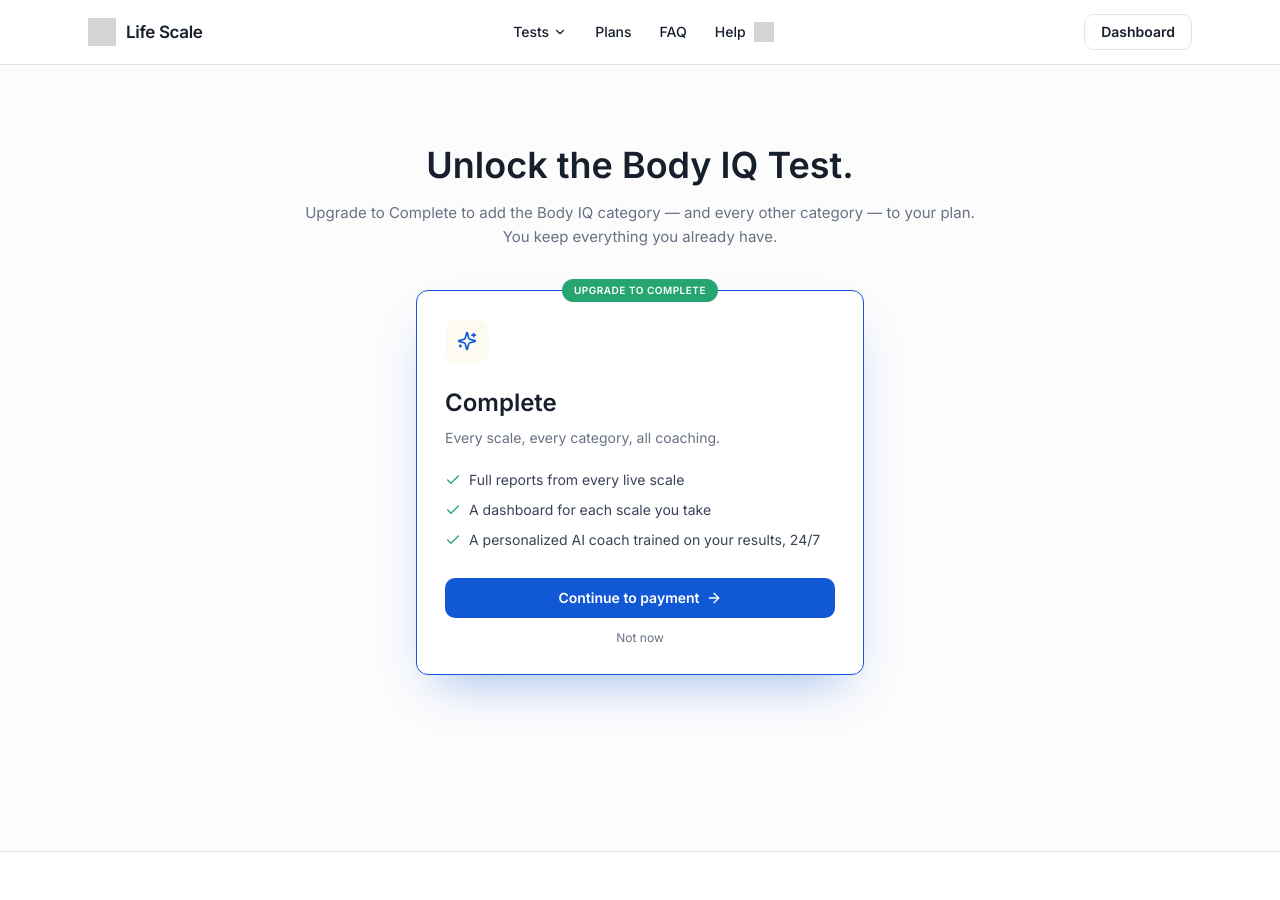
it: purchase paths › sends an existing subscriber upgrade to trial selection instead of granting access
The image size is (1280, 900).
Step 1. Click the button "Continue to payment" → click(640, 598), box [445, 578, 835, 618]
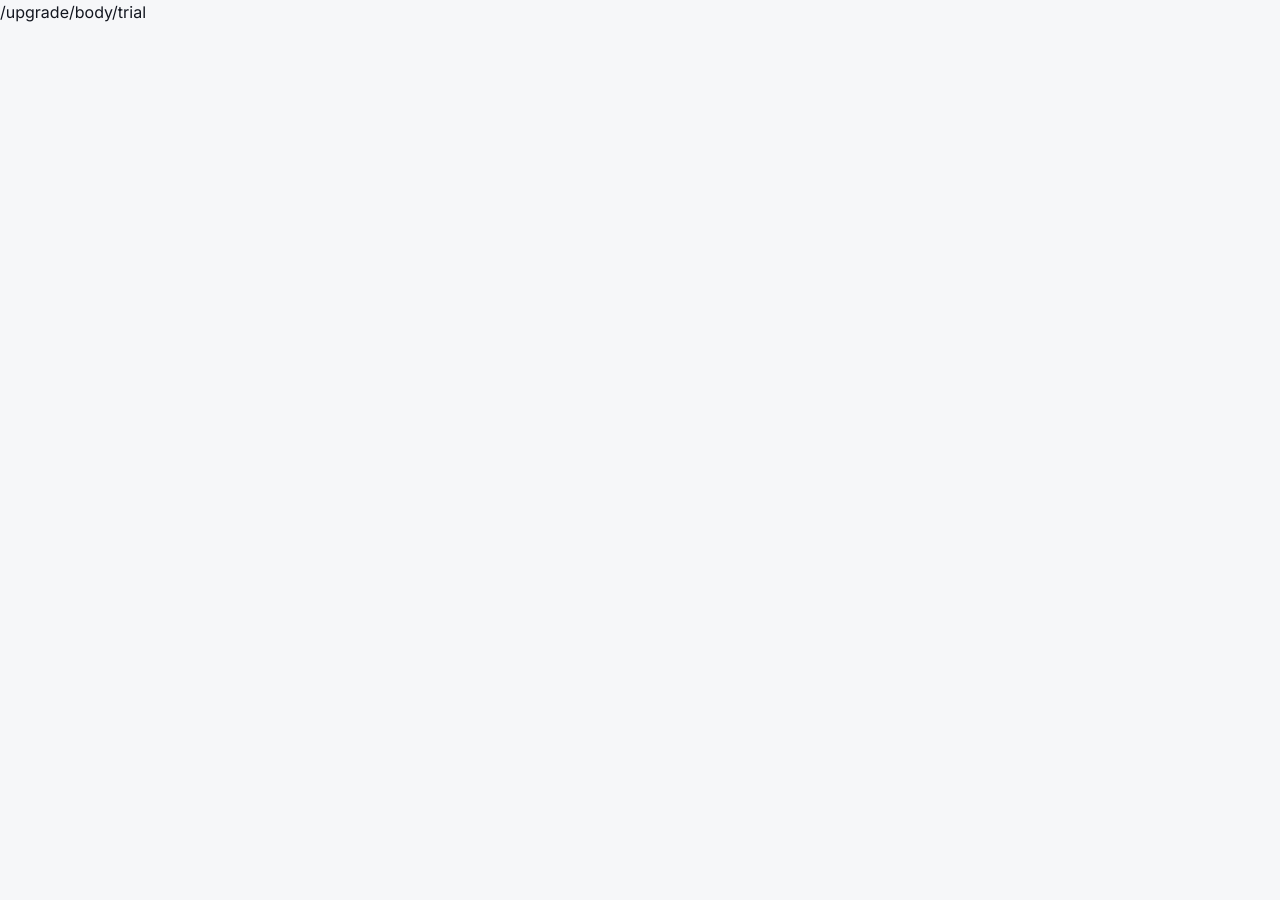
Expected: the text with test id "location" reads "/upgrade/body/trial", [0, 2, 146, 22]
